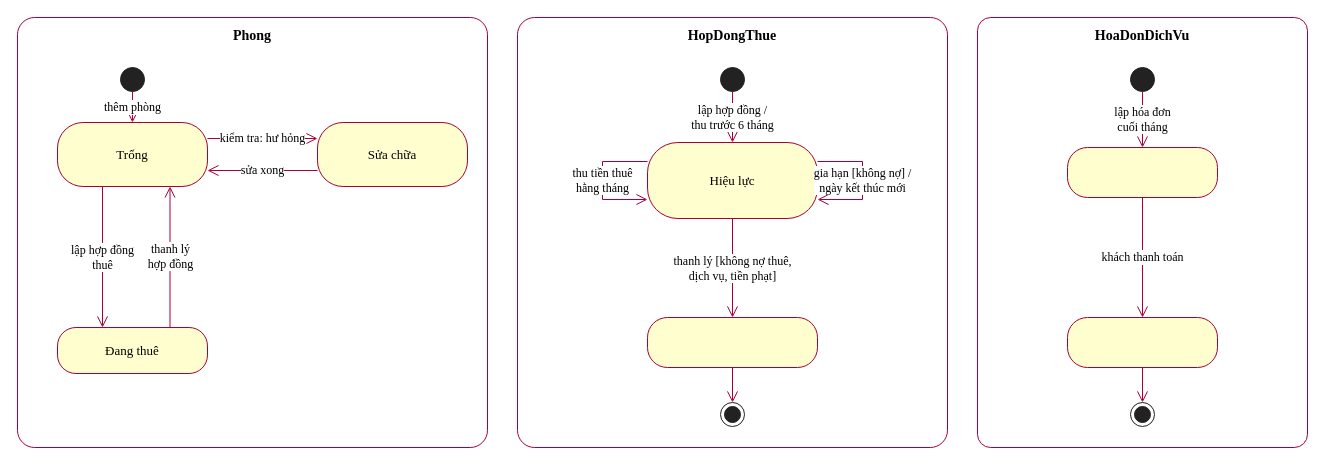
The diagram is 1325 pixels wide and 465 high, and some of its shapes have lost their labels. Each missing label, with the centre of its shape:
"Chưa thanh toán" belongs at (x=1142, y=172).
"Đã thanh lý" belongs at (x=732, y=342).
"Đã thanh toán" belongs at (x=1142, y=342).
